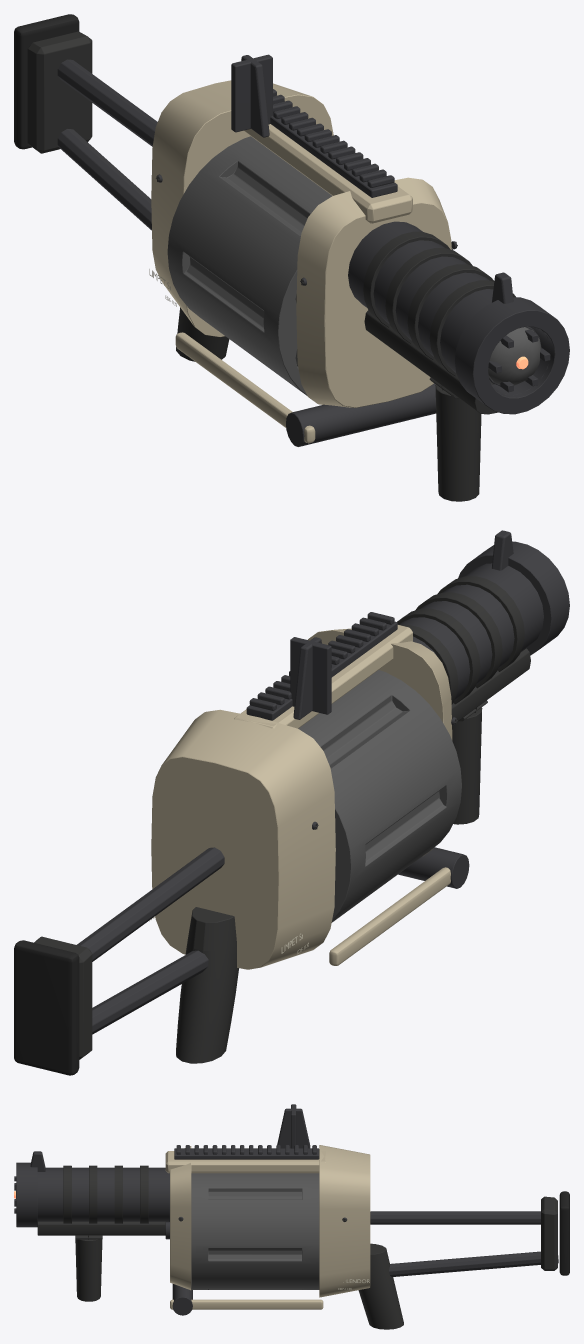
Rendered from splendor.glb.
3 renders of one model, top to bottom at view 1: azimuth 30°, elevation 25°; view 2: azimuth 150°, elevation 25°; view 3: azimuth 270°, elevation 25°, orthographic. The views are drawn at different scales.
Parts seen in each view (by area): view 1: Body; view 2: Body; view 3: Body.
Part boxes in pixels (x1=…): Body: x1=14, y1=14, x2=569, y2=501; Body: x1=14, y1=530, x2=569, y2=1075; Body: x1=14, y1=1104, x2=569, y2=1329.
Bounding box in the file's own units: 0.144 × 0.267 × 0.6518.
